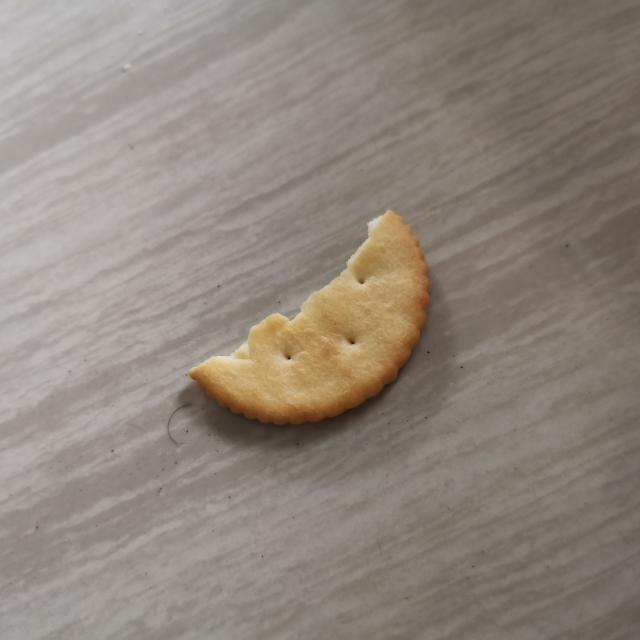Broken: (187, 208, 430, 426)
